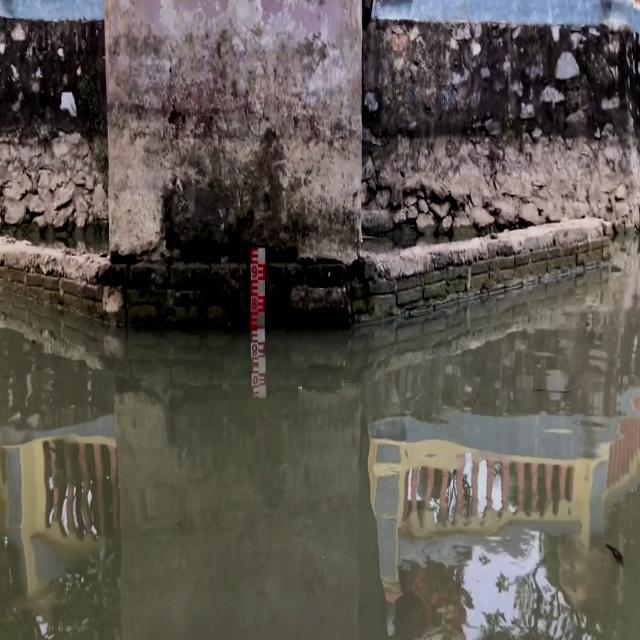ruler: (248, 241, 274, 335)
value: (250, 264, 258, 280), (250, 294, 257, 308)
